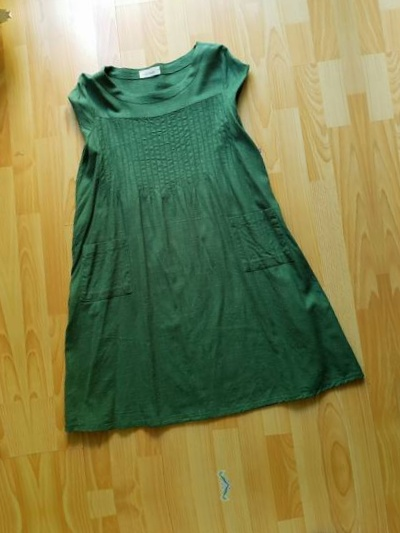Dress: (1, 0, 374, 446), (369, 0, 400, 393), (78, 525, 400, 533), (0, 51, 5, 500)
